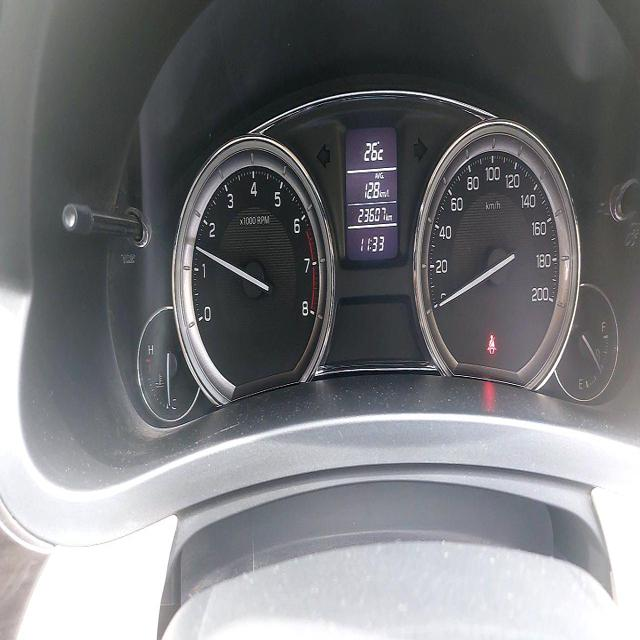odometer: (354, 205, 387, 225)
